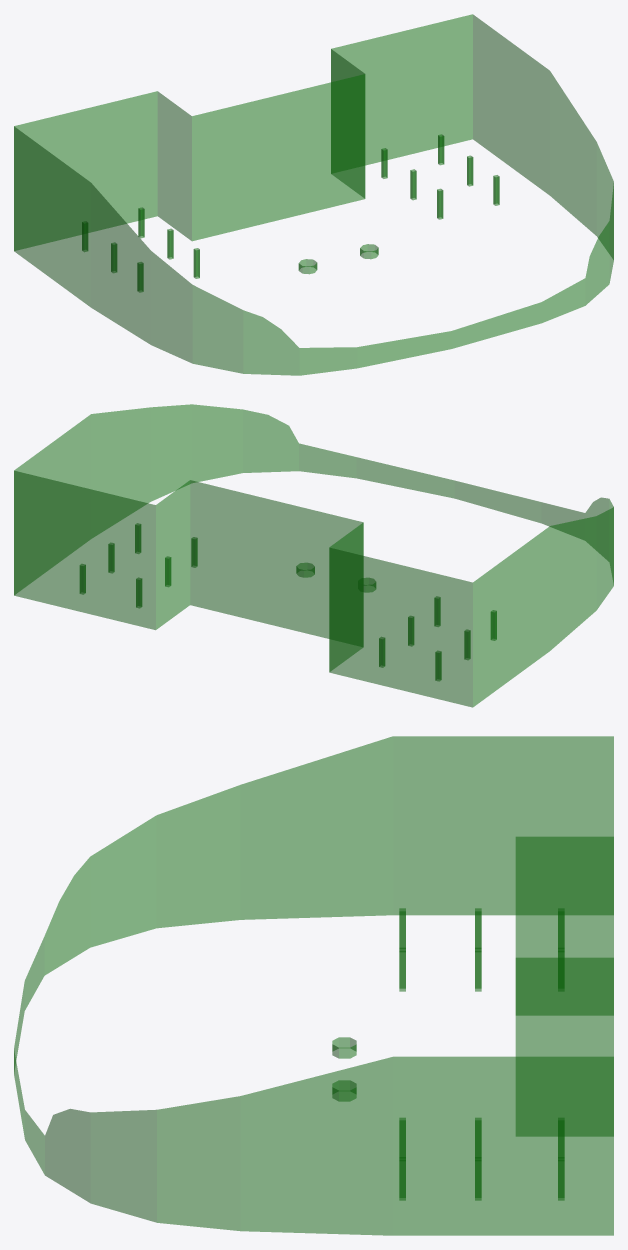
Rendered from wall.obj.
The picture shows the model from 3 angles, top to bottom: view 1: azimuth 30°, elevation 25°; view 2: azimuth 150°, elevation 25°; view 3: azimuth 270°, elevation 25°; orthographic projection. The views are drawn at different scales.
Bounding box in the file's own units: 92.86 × 24.2 × 73.47.
